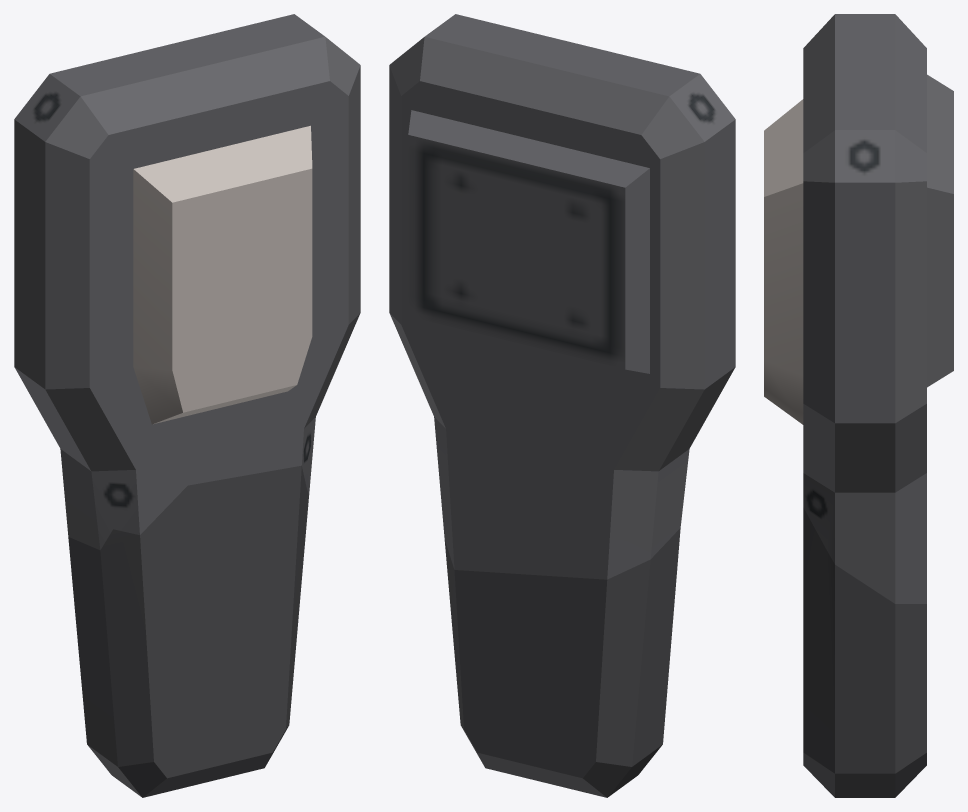
Rendered from SM_Prop_Street_Light_09.fbx.
3 views of the same model, side by side, from view 1: azimuth 30°, elevation 25°; view 2: azimuth 150°, elevation 25°; view 3: azimuth 270°, elevation 25° (orthographic). The views are drawn at different scales.
Parts seen in each view (by area): view 1: SM_Prop_Street_Light_09; view 2: SM_Prop_Street_Light_09; view 3: SM_Prop_Street_Light_09.
Part boxes in pixels (left/top/right/bottom): SM_Prop_Street_Light_09: left=14, top=14, right=360, bottom=797; SM_Prop_Street_Light_09: left=389, top=14, right=735, bottom=797; SM_Prop_Street_Light_09: left=764, top=14, right=953, bottom=797.
Size of the model in its own units: 23.28 by 50.54 by 12.49.
